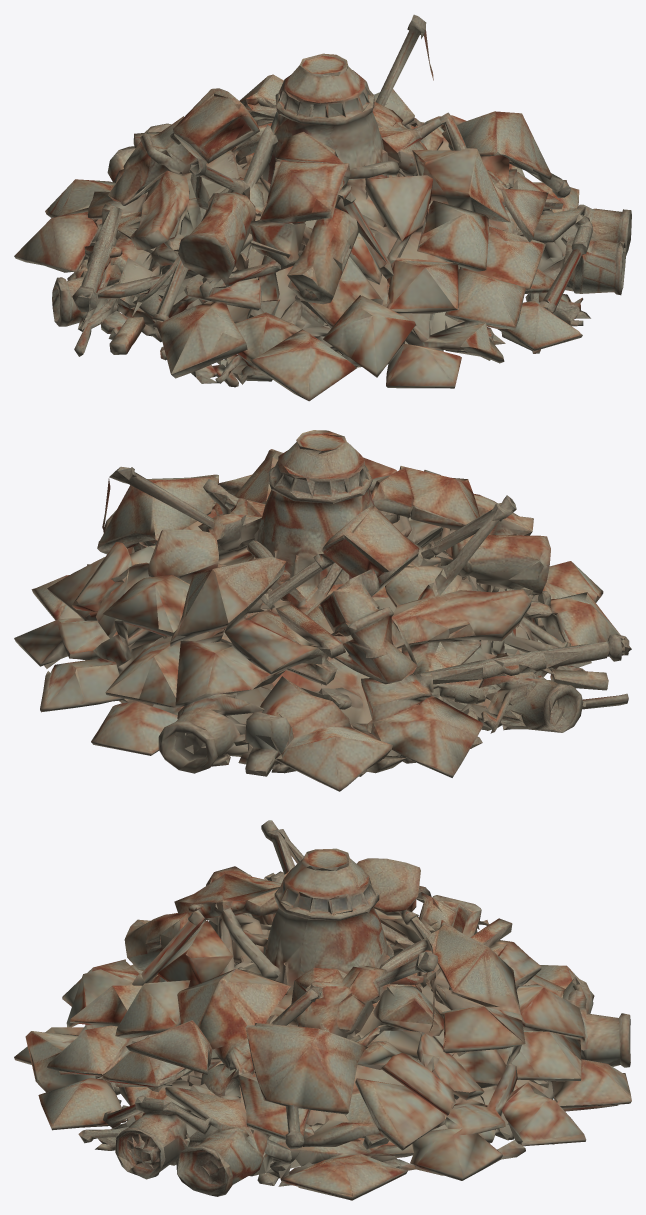
The model's file is scrap.glb.
3 renders of one model, top to bottom at view 1: azimuth 30°, elevation 25°; view 2: azimuth 150°, elevation 25°; view 3: azimuth 270°, elevation 25°, orthographic. The views are drawn at different scales.
Parts seen in each view (by area): view 1: mesh_node; view 2: mesh_node; view 3: mesh_node.
Part boxes in pixels (x1,y1,x2,y2): mesh_node: (14, 14, 631, 401); mesh_node: (14, 430, 631, 791); mesh_node: (14, 820, 631, 1200).
Size of the model in its own units: 4.02 by 1.5 by 3.88.
1 material, 1 textured.
